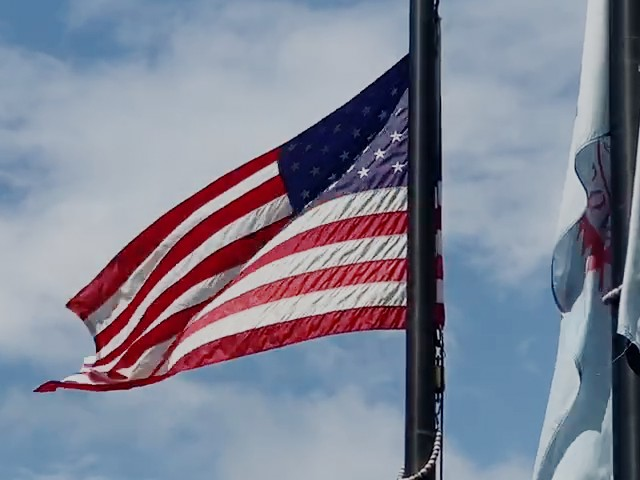America flag: (31, 50, 410, 395)
